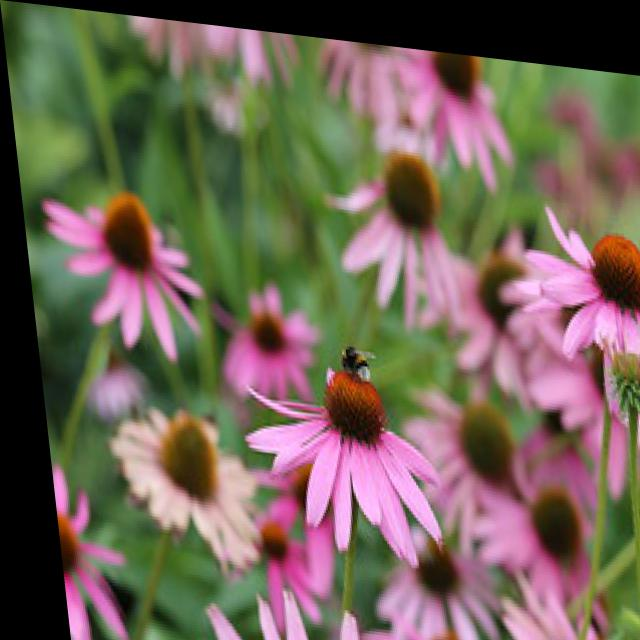Abeille: (323, 326, 378, 382)
